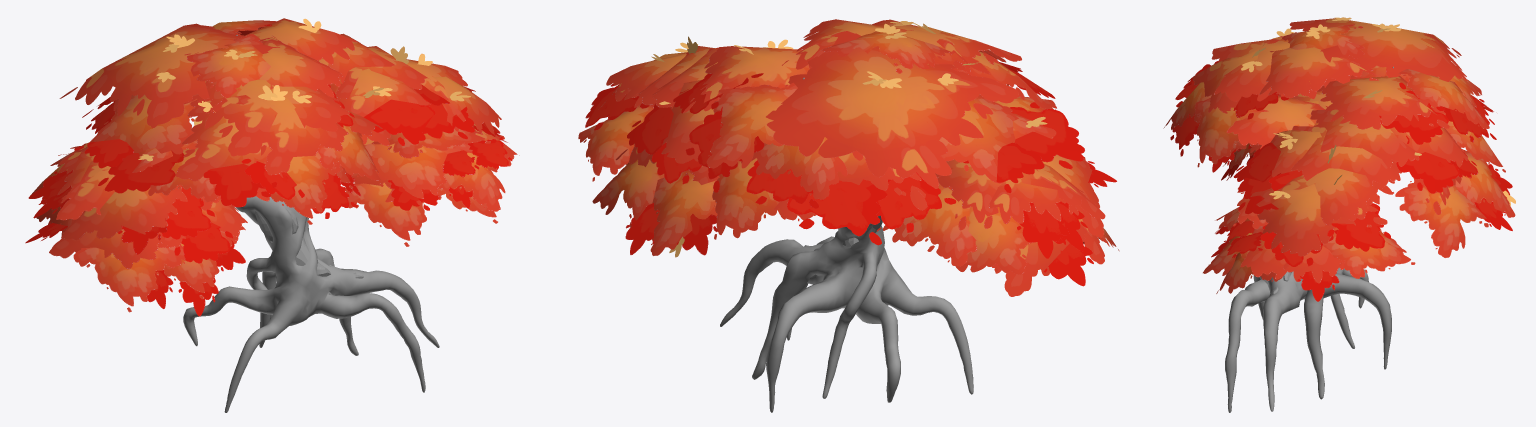
The model's file is F_Tree01.fbx.
3 renders of one model, left to right at view 1: azimuth 30°, elevation 25°; view 2: azimuth 150°, elevation 25°; view 3: azimuth 270°, elevation 25°, orthographic. The views are drawn at different scales.
Visible parts, largest first — view 1: Tree01_Leaves, Tree01_main, Tree01_Jewel; view 2: Tree01_Leaves, Tree01_main; view 3: Tree01_Leaves, Tree01_main.
Boxes of the visible parts, box(x1,y1,x2,y2) form: Tree01_Leaves: box(25, 18, 519, 316); Tree01_main: box(183, 35, 439, 412); Tree01_Jewel: box(255, 207, 363, 278); Tree01_Leaves: box(578, 19, 1119, 296); Tree01_main: box(720, 77, 973, 412); Tree01_Leaves: box(1163, 17, 1515, 301); Tree01_main: box(1225, 66, 1393, 412).
Size of the model in its own units: 2817 by 1918 by 1971.
